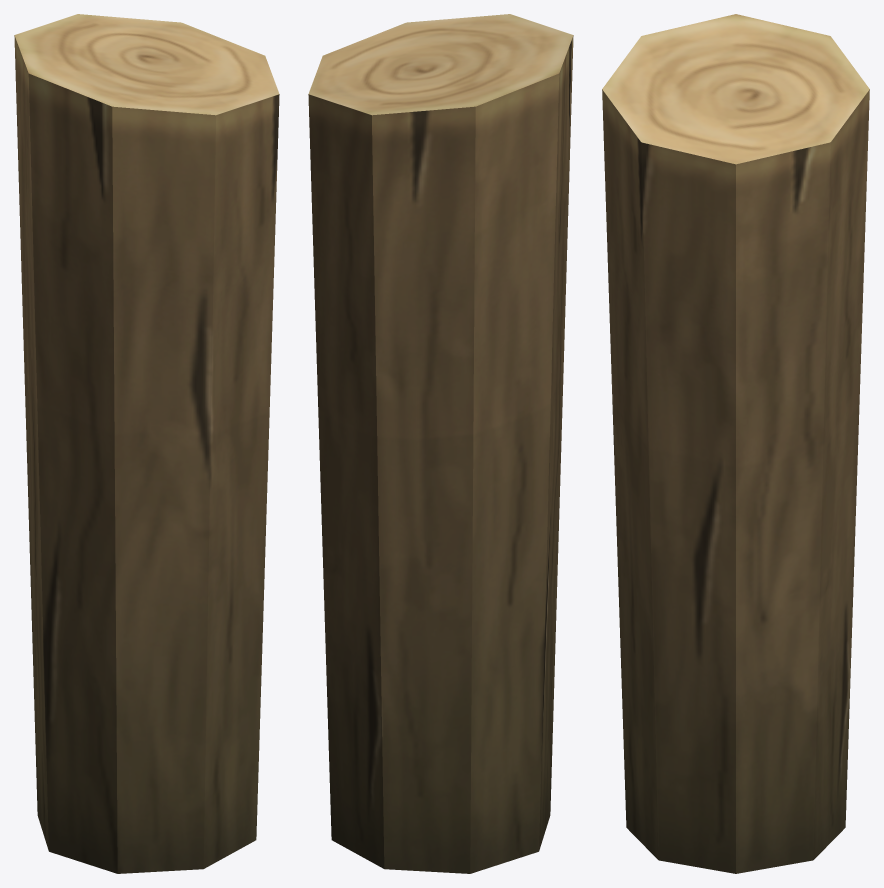
The picture shows the model from 3 angles, left to right: view 1: azimuth 30°, elevation 25°; view 2: azimuth 150°, elevation 25°; view 3: azimuth 270°, elevation 25°; orthographic projection. The views are drawn at different scales.
Parts seen in each view (by area): view 1: part_04b:Mesh; view 2: part_04b:Mesh; view 3: part_04b:Mesh.
Part boxes in pixels (box(x1,y1,x2,y2)): part_04b:Mesh: box(14, 14, 279, 873); part_04b:Mesh: box(308, 14, 573, 873); part_04b:Mesh: box(602, 14, 869, 873).
Bounding box in the file's own units: 0.9108 × 2.88 × 0.9226.
